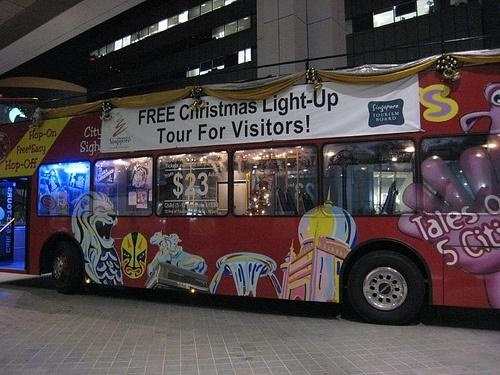bus: (3, 45, 500, 325)
